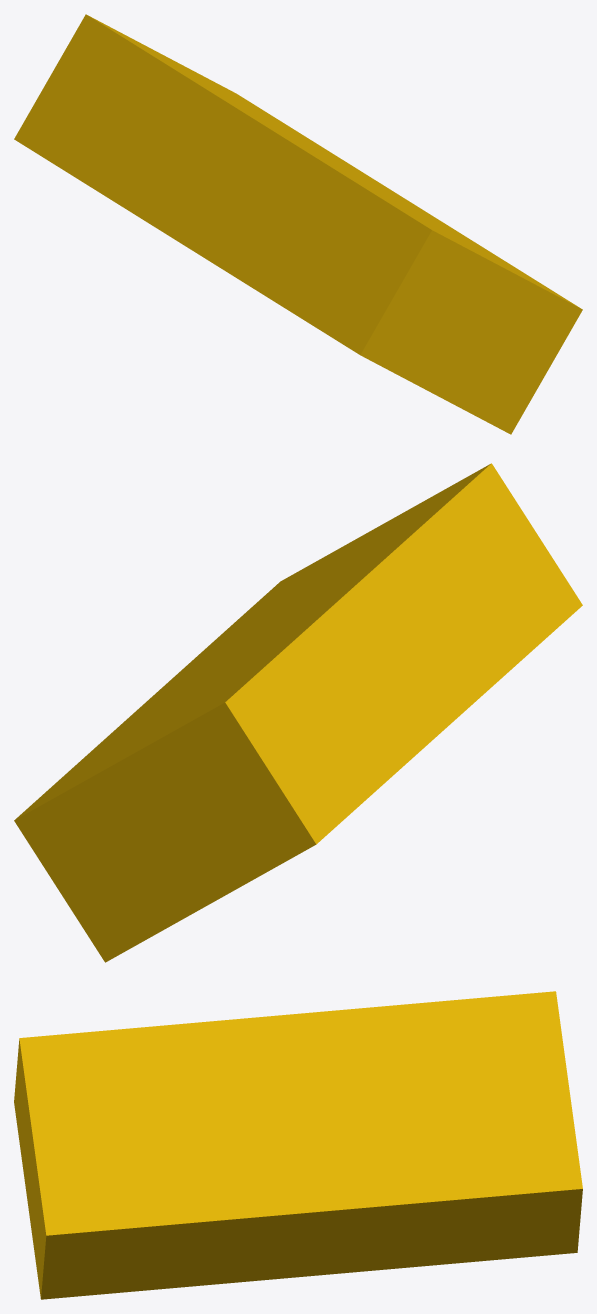
The model's file is Kare.fbx.
3 renders of one model, top to bottom at view 1: azimuth 30°, elevation 25°; view 2: azimuth 150°, elevation 25°; view 3: azimuth 270°, elevation 25°, orthographic. The views are drawn at different scales.
Parts seen in each view (by area): view 1: Cube; view 2: Cube; view 3: Cube.
Boxes of the visible parts, box(x1,y1,x2,y2) form: Cube: box(14, 14, 582, 434); Cube: box(14, 463, 582, 962); Cube: box(14, 991, 582, 1299).
Bounding box in the file's own units: 14.38 × 11.74 × 25.24.
